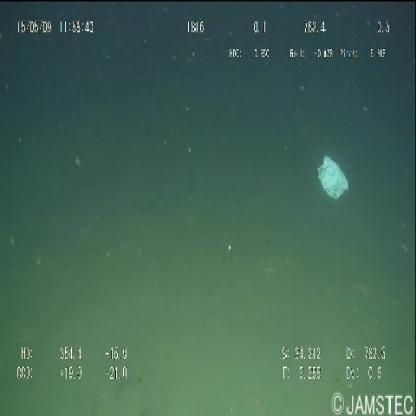Rác: (314, 151, 352, 206)
